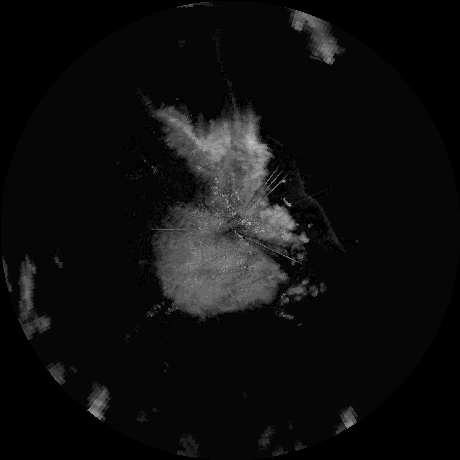frontgust: (297, 175, 343, 245)
